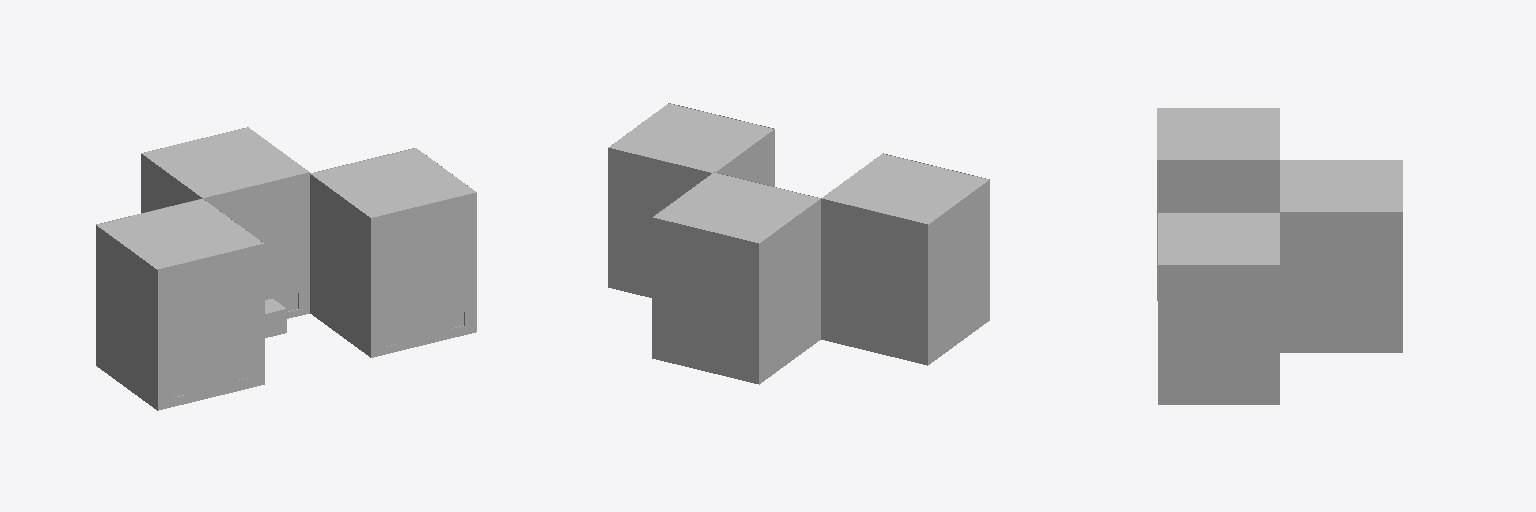
File: building.obj
3 renders of one model, left to right at view 1: azimuth 30°, elevation 25°; view 2: azimuth 150°, elevation 25°; view 3: azimuth 270°, elevation 25°, orthographic.
Visible parts, largest first — view 1: Mesh1 Model, Mesh9 Model, Mesh2 Model, Mesh8 Model, Mesh5 Model, Mesh4 Model, Mesh3 Model; view 2: Mesh1 Model, Mesh5 Model, Mesh11 Model, Mesh4 Model, Mesh7 Model; view 3: Mesh1 Model, Mesh6 Model, Mesh10 Model, Mesh4 Model.
Part boxes in pixels (x1,y1,x2,y2): Mesh1 Model: (96,127,476,410); Mesh9 Model: (371,192,476,328); Mesh2 Model: (158,244,264,380); Mesh8 Model: (310,174,370,327); Mesh5 Model: (96,172,309,290); Mesh4 Model: (141,154,261,241); Mesh3 Model: (96,228,157,379); Mesh1 Model: (608,103,989,384); Mesh5 Model: (714,172,927,335); Mesh11 Model: (608,148,711,268); Mesh4 Model: (759,159,874,353); Mesh7 Model: (652,217,758,354); Mesh1 Model: (1157,108,1402,404); Mesh6 Model: (1280,212,1402,323); Mesh10 Model: (1158,265,1279,375); Mesh4 Model: (1157,160,1279,212).
Bounding box in the file's own units: 123 × 51.66 × 81.75.